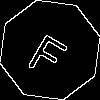F: (25, 25, 74, 80)
